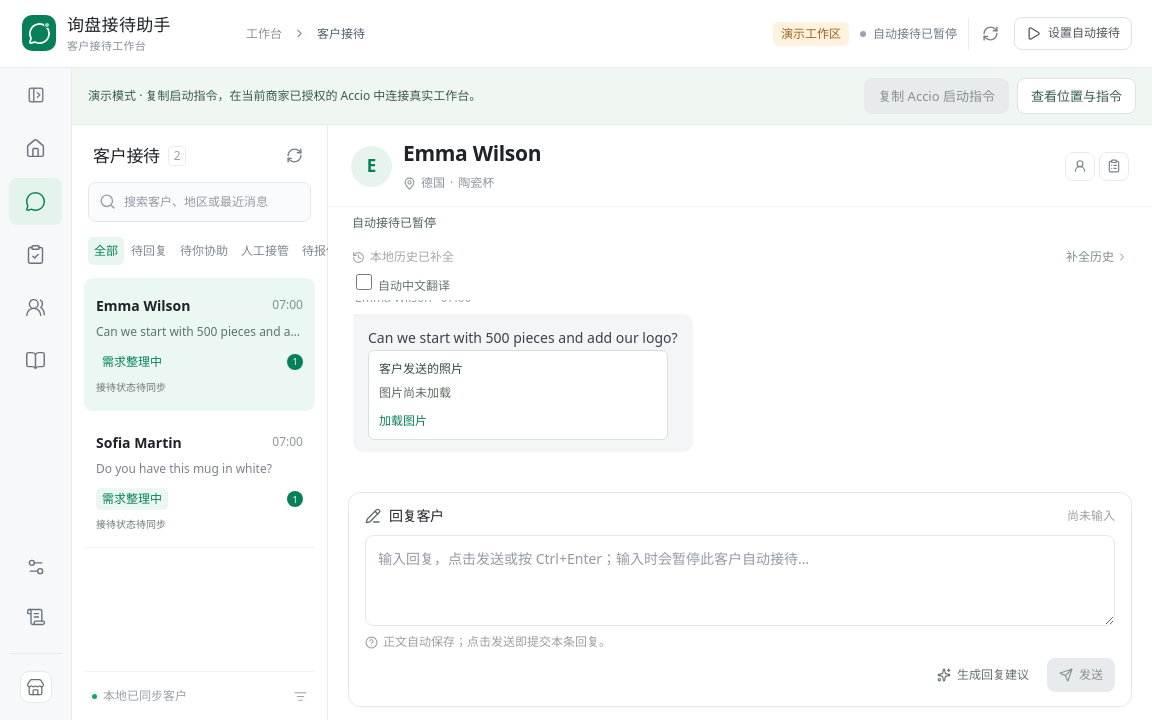
Test case: 消息图片 › 切换会话后丢弃旧图片响应
The width and height of the screenshot is (1152, 720).
(page scrolled)
Click the button "Sofia Martin" at (200, 482), box [84, 415, 315, 548]
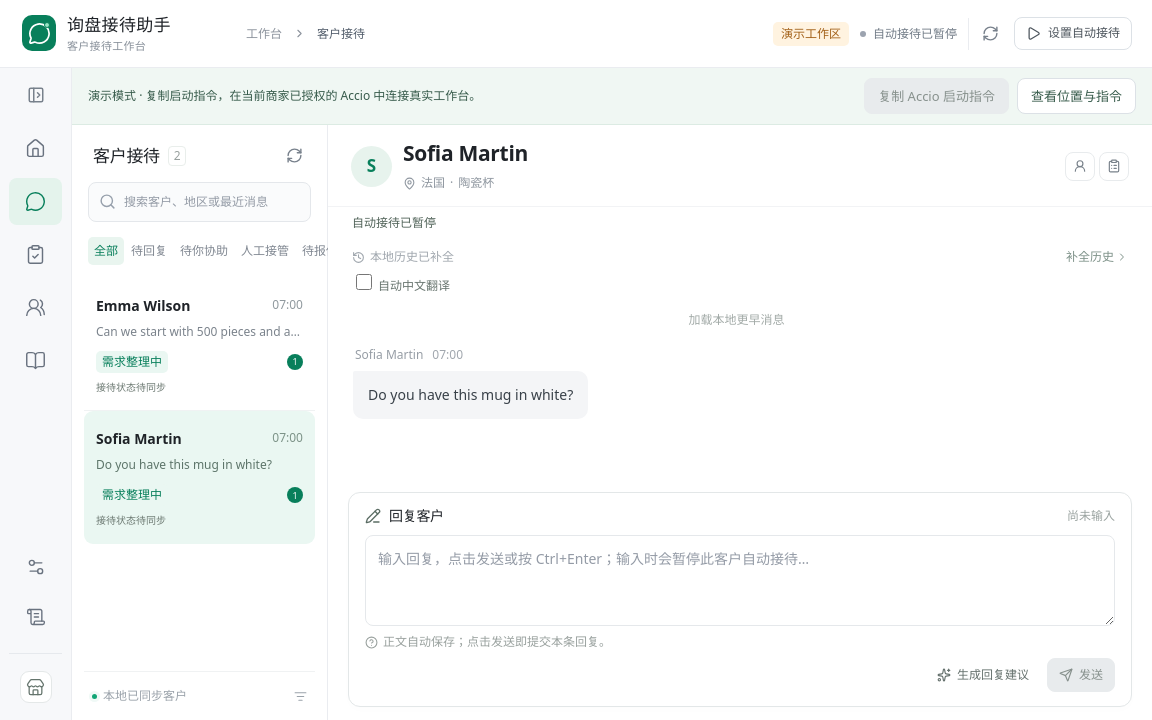
Check: the heading "Sofia Martin" is shown, box [403, 140, 528, 167]
